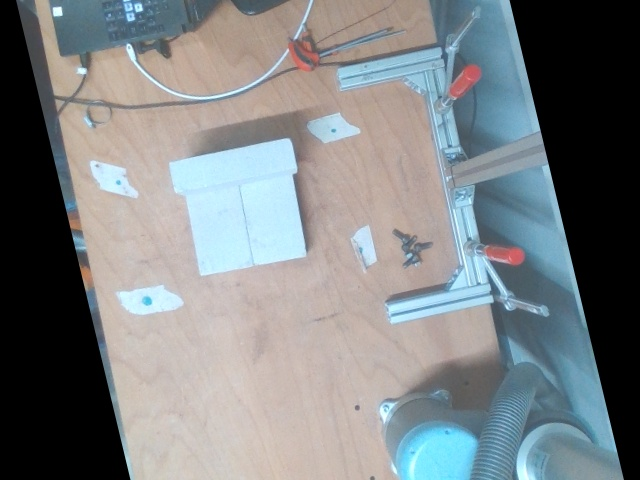brick-side: (169, 137, 294, 194)
